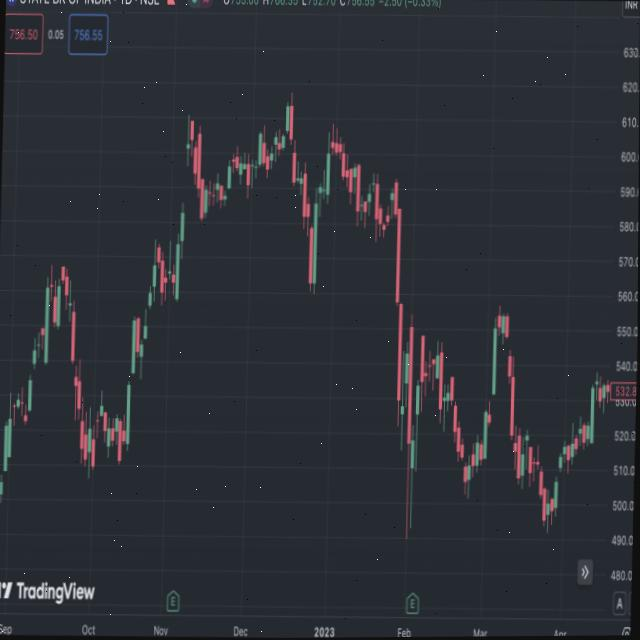Gap Down: (68, 300, 81, 424), (503, 307, 516, 392), (0, 431, 7, 512)
Gap Up: (177, 111, 194, 260), (122, 316, 139, 458), (484, 305, 501, 433), (25, 334, 40, 415)
